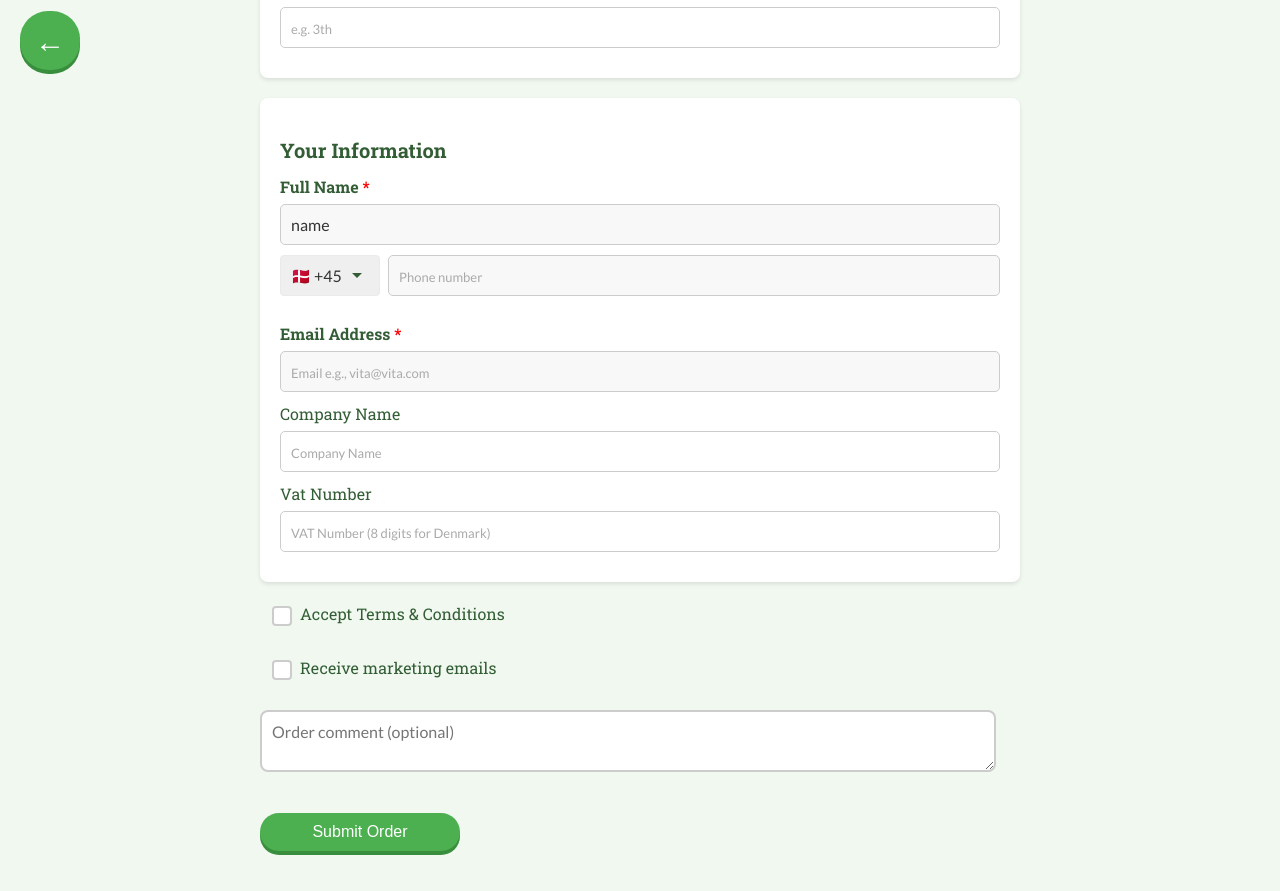
Test case: Checkout component › validates form fields correctly (Phone number)
(page scrolled)
Click the button "Submit Order" at (360, 832), box [260, 813, 460, 851]
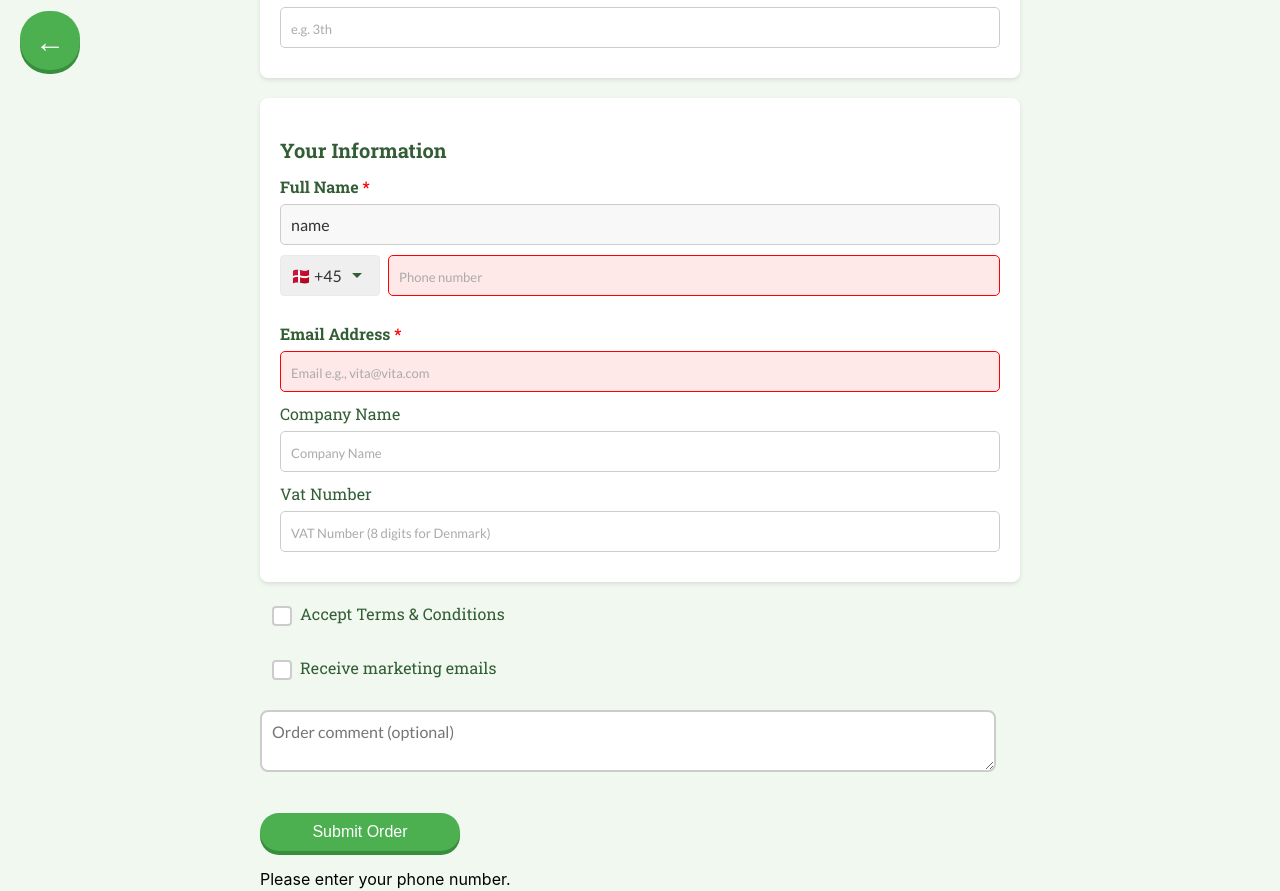
Expected: the text "Please enter your phone number." is shown, [260, 869, 511, 889]
